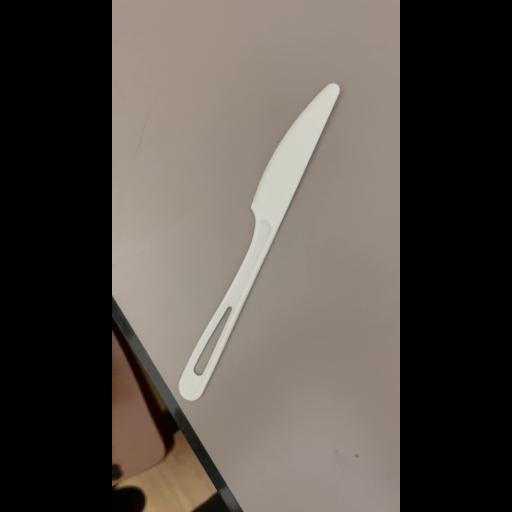utensil: (174, 78, 342, 402)
